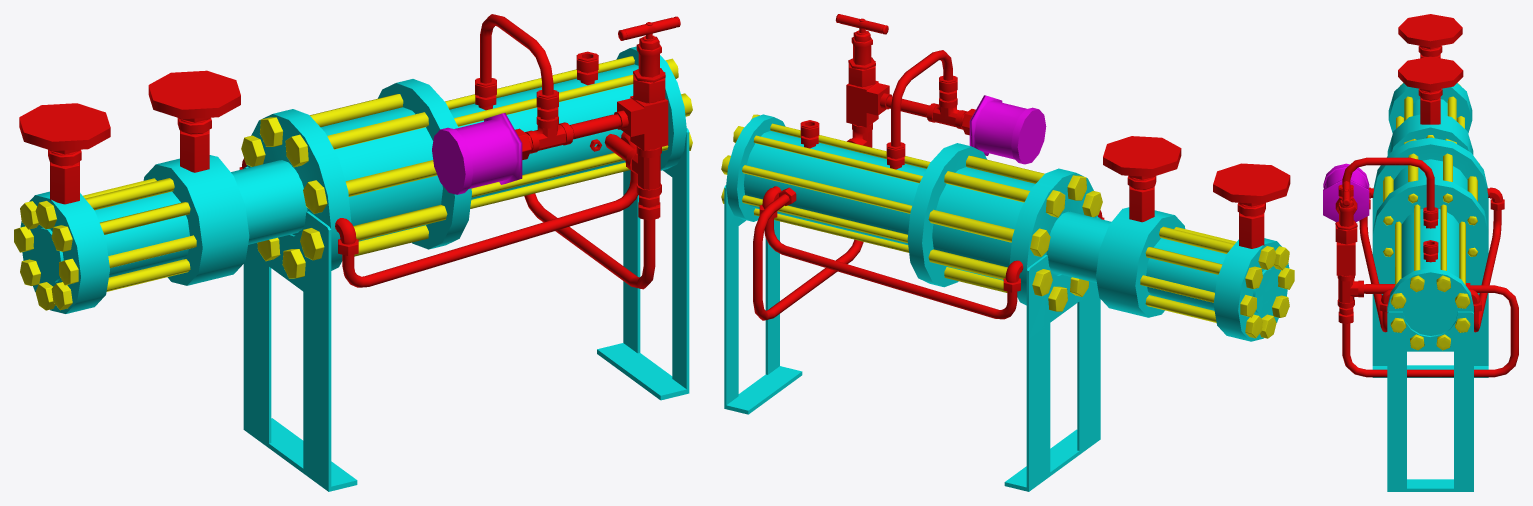
Rendered from Checkpoint_5400.fbx.
3 views of the same model, side by side, from view 1: azimuth 30°, elevation 25°; view 2: azimuth 150°, elevation 25°; view 3: azimuth 270°, elevation 25° (orthographic). The views are drawn at different scales.
Visible parts, largest first — view 1: Chpt_muffler_low; view 2: Chpt_muffler_low; view 3: Chpt_muffler_low.
Part boxes in pixels (box(x1,y1,x2,y2)): Chpt_muffler_low: box(14, 14, 692, 491); Chpt_muffler_low: box(721, 14, 1294, 491); Chpt_muffler_low: box(1323, 14, 1518, 491).
Size of the model in its own units: 198 by 121 by 76.82.
